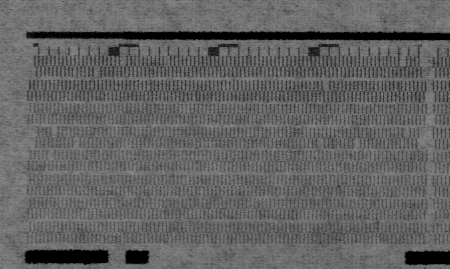Broken hole: (25, 54, 39, 81), (26, 125, 41, 149), (416, 128, 429, 150), (117, 54, 130, 68), (91, 65, 104, 78), (351, 138, 364, 151), (71, 135, 83, 149), (320, 79, 332, 92), (396, 55, 408, 68), (45, 150, 57, 162), (315, 137, 327, 149), (49, 126, 60, 139), (402, 128, 413, 140)
